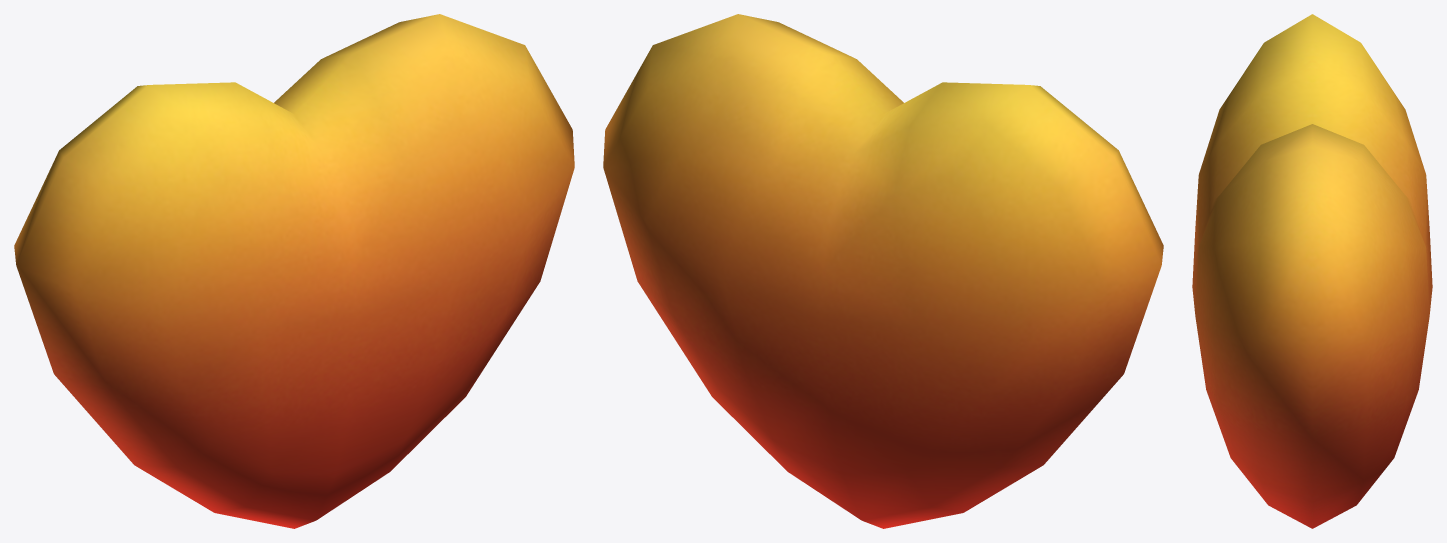
Rendered from Heart.fbx.
3 views of the same model, side by side, from view 1: azimuth 30°, elevation 25°; view 2: azimuth 150°, elevation 25°; view 3: azimuth 270°, elevation 25° (orthographic). The views are drawn at different scales.
Parts seen in each view (by area): view 1: Heart; view 2: Heart; view 3: Heart.
Boxes of the visible parts, box(x1,y1,x2,y2) form: Heart: box(14, 14, 574, 528); Heart: box(603, 14, 1163, 528); Heart: box(1192, 14, 1432, 528).
Bounding box in the file's own units: 5.14 × 4.23 × 2.07.
Materials: 1 (1 with a texture image).
